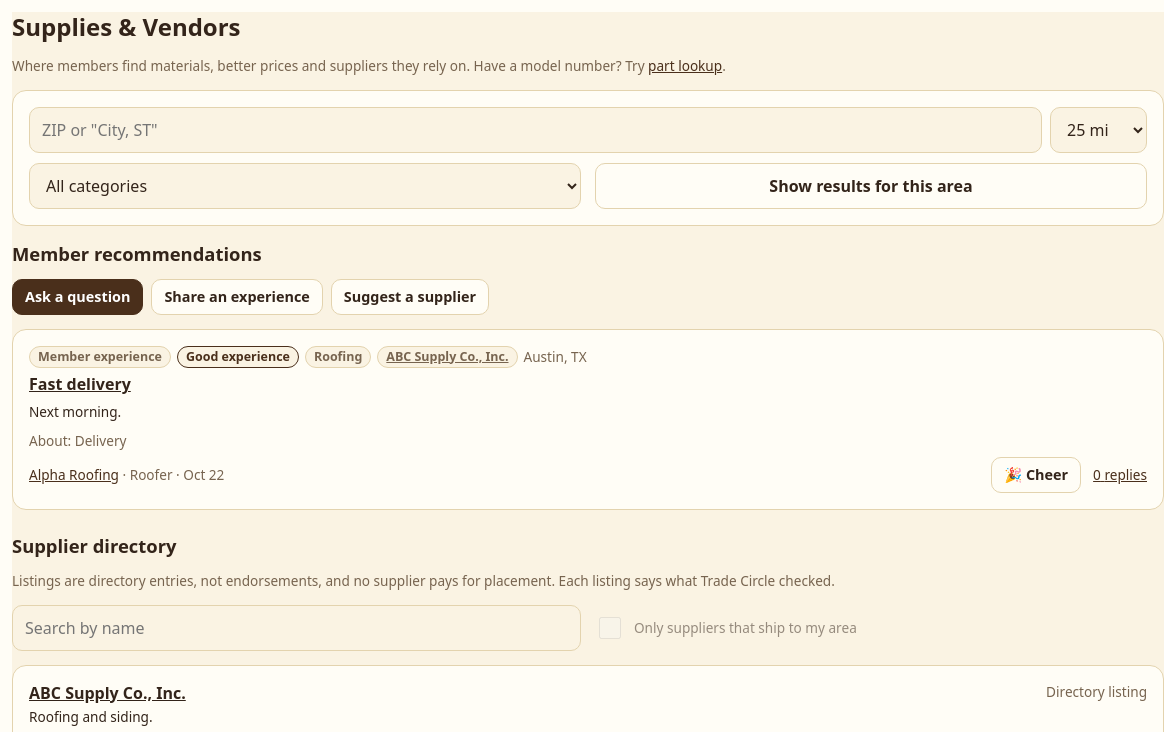
Test case: Supplies & Vendors › shows member posts above the directory and remembers the area
Expected: the link "Fast delivery" is shown, [29, 373, 131, 395]
Expected: the text "Good experience" is shown, [177, 346, 299, 368]
Type "78701" into the field named "Your area" at (536, 130), box [29, 107, 1042, 153]
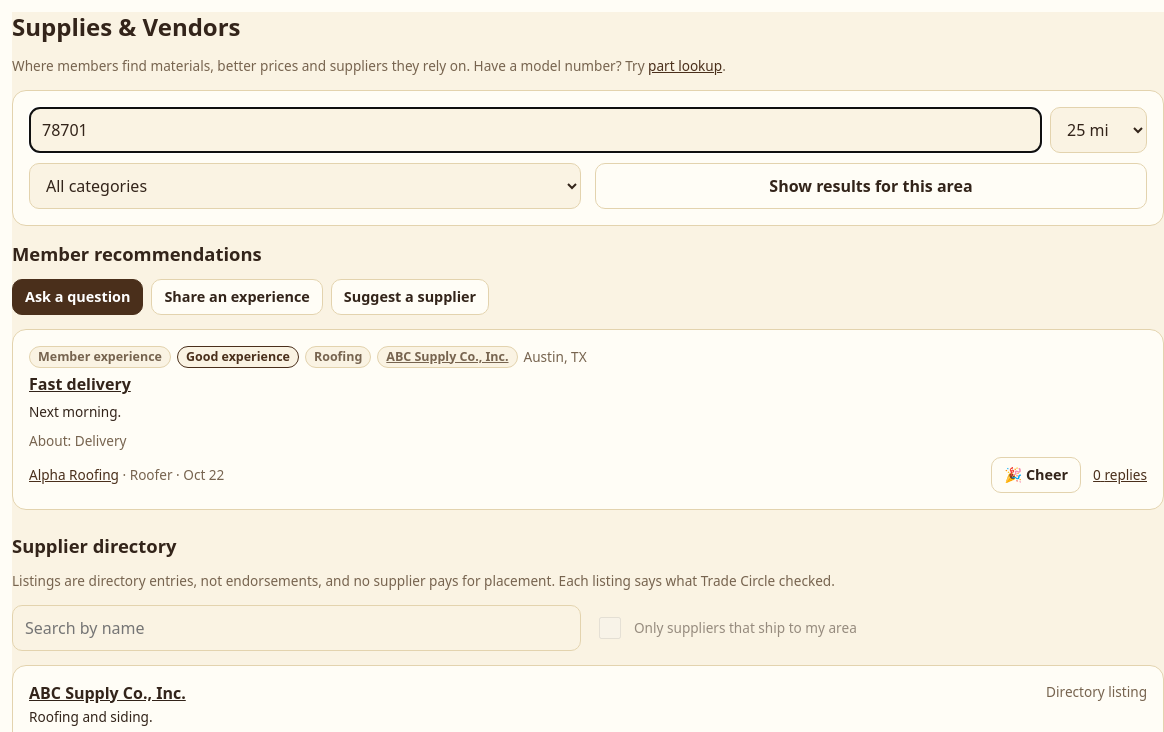
Click the button "Show results for this area" at (871, 186), box [595, 163, 1147, 209]
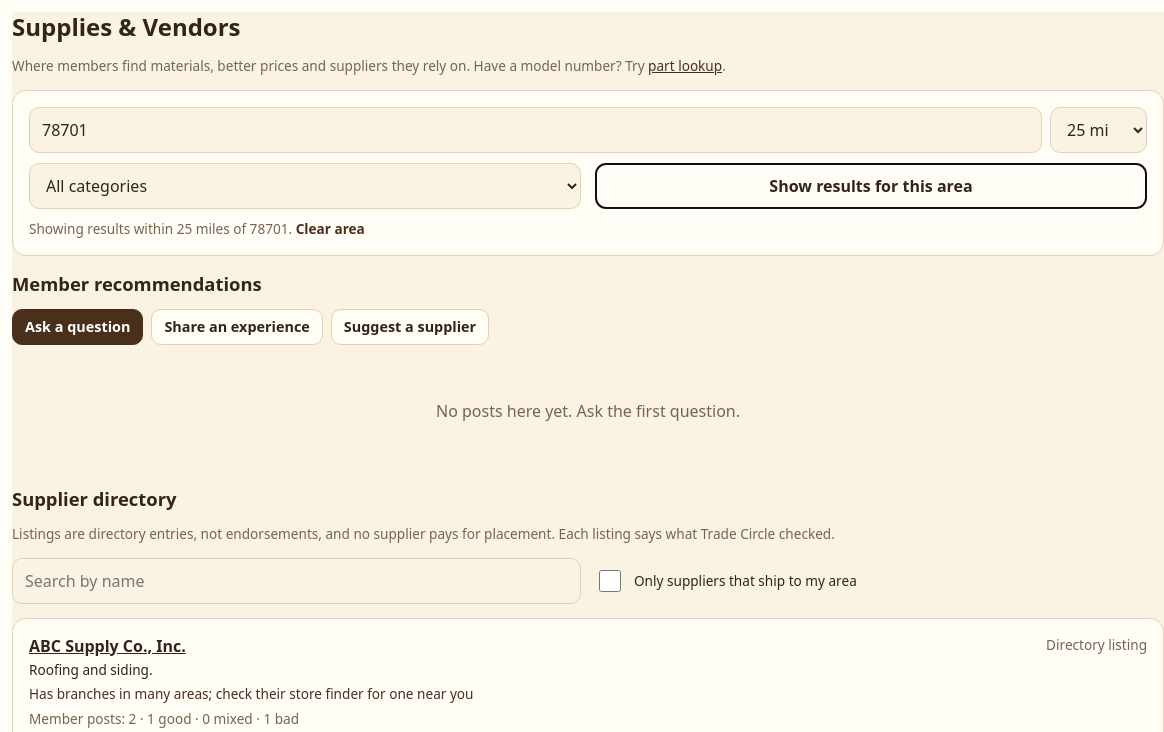
Expected: the text "check their store finder" is shown, [29, 684, 474, 703]
